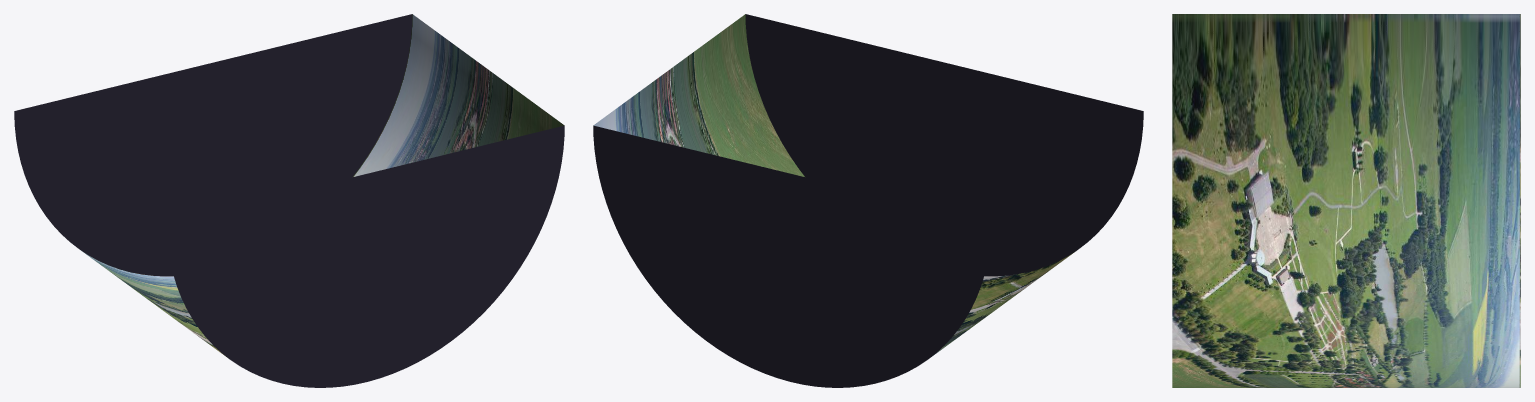
The model's file is luft.glb.
3 views of the same model, side by side, from view 1: azimuth 30°, elevation 25°; view 2: azimuth 150°, elevation 25°; view 3: azimuth 270°, elevation 25° (orthographic). The views are drawn at different scales.
Visible parts, largest first — view 1: root, Komponente#2; view 2: root, Komponente#2; view 3: Komponente#2.
Boxes of the visible parts, x1,y1,x2,y2 form: root: (14,14,564,387); Komponente#2: (82,14,564,356); root: (593,14,1143,387); Komponente#2: (593,14,1075,356); Komponente#2: (1172,14,1520,387).
Bounding box in the file's own units: 4.44 × 2.22 × 2.94.
Materials: 3 (1 with a texture image).
